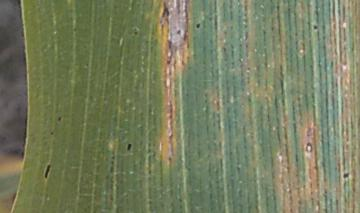tarspot: (42, 164, 52, 179), (341, 171, 351, 179), (126, 141, 133, 152), (312, 23, 320, 31), (175, 27, 182, 35), (194, 22, 201, 29), (132, 29, 139, 36), (56, 114, 62, 122), (49, 130, 55, 136)
